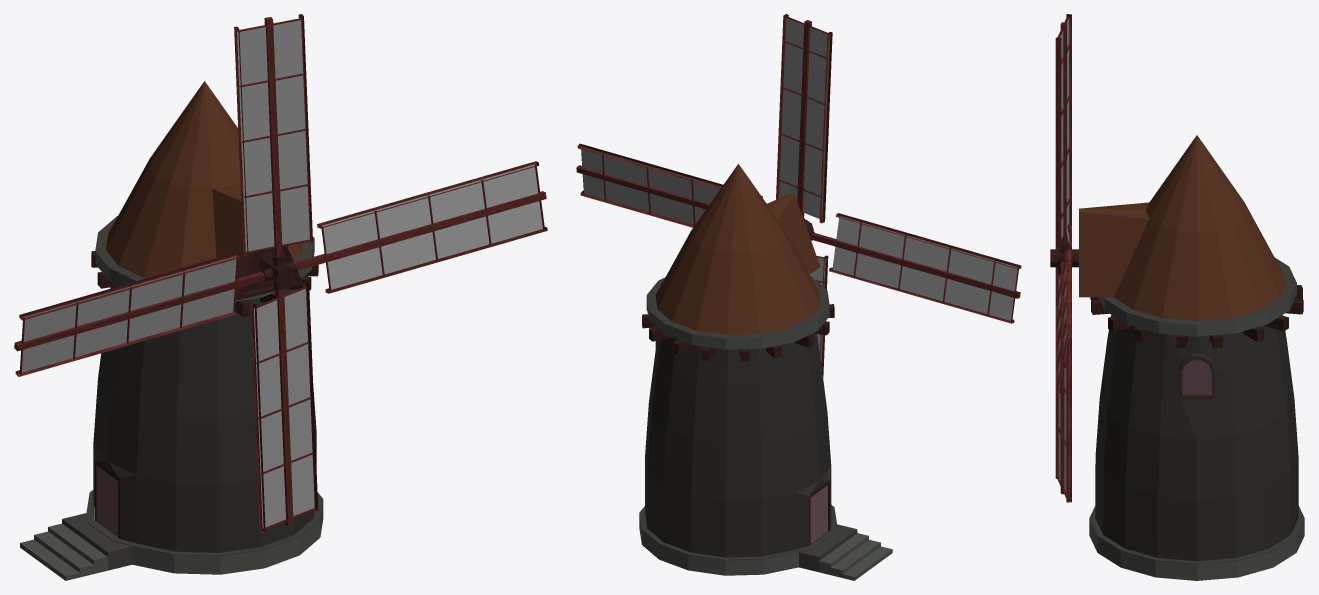
Rendered from windmill.lod0.glb.
3 views of the same model, side by side, from view 1: azimuth 30°, elevation 25°; view 2: azimuth 150°, elevation 25°; view 3: azimuth 270°, elevation 25° (orthographic). The views are drawn at different scales.
Visible parts, largest first — view 1: Object_4, Object_35, Object_20; view 2: Object_4, Object_35, Object_20; view 3: Object_4, Object_35, Object_20.
Boxes of the visible parts, x1,y1,x2,y2 form: Object_4: (20,20,542,580); Object_35: (14,14,547,532); Object_20: (91,246,318,538); Object_4: (581,18,1017,580); Object_35: (576,14,1021,377); Object_20: (642,218,834,545); Object_4: (1058,18,1304,580); Object_35: (1055,14,1071,502); Object_20: (1050,242,1303,347).
Size of the model in its own units: 11.81 by 12 by 5.46.
Materials: 3 (2 with a texture image).
